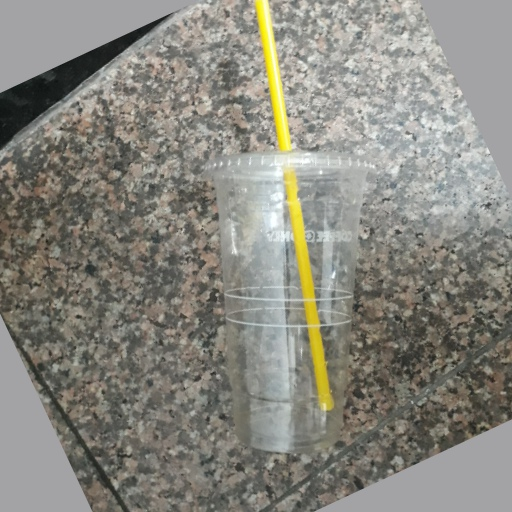Plastic_2: (208, 1, 380, 460)
